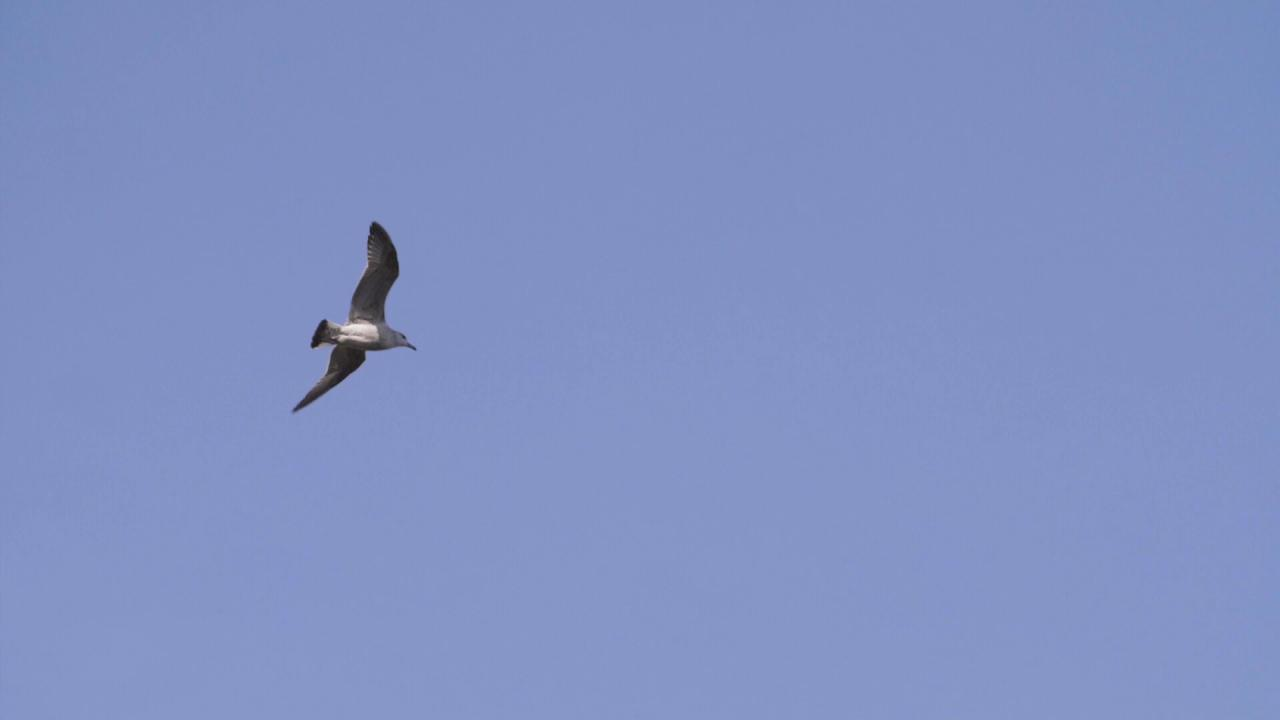Bird: (280, 207, 431, 437)
